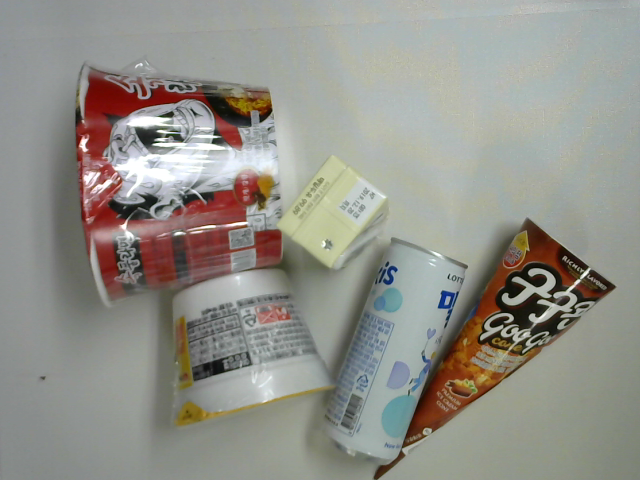99.89_Soymilk: (271, 160, 387, 277)
GooGoo_Cone_CVS: (365, 215, 619, 480)
Hejangmini: (168, 264, 338, 425)
Hejangpul: (75, 62, 288, 312)
Milkies_250ml: (315, 234, 471, 470)
